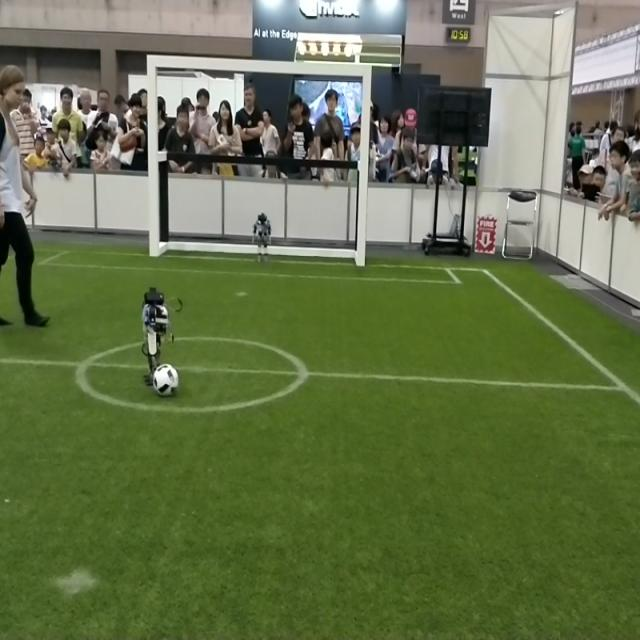ball: (152, 361, 180, 398)
goalpost: (354, 62, 372, 265), (147, 52, 159, 255)
